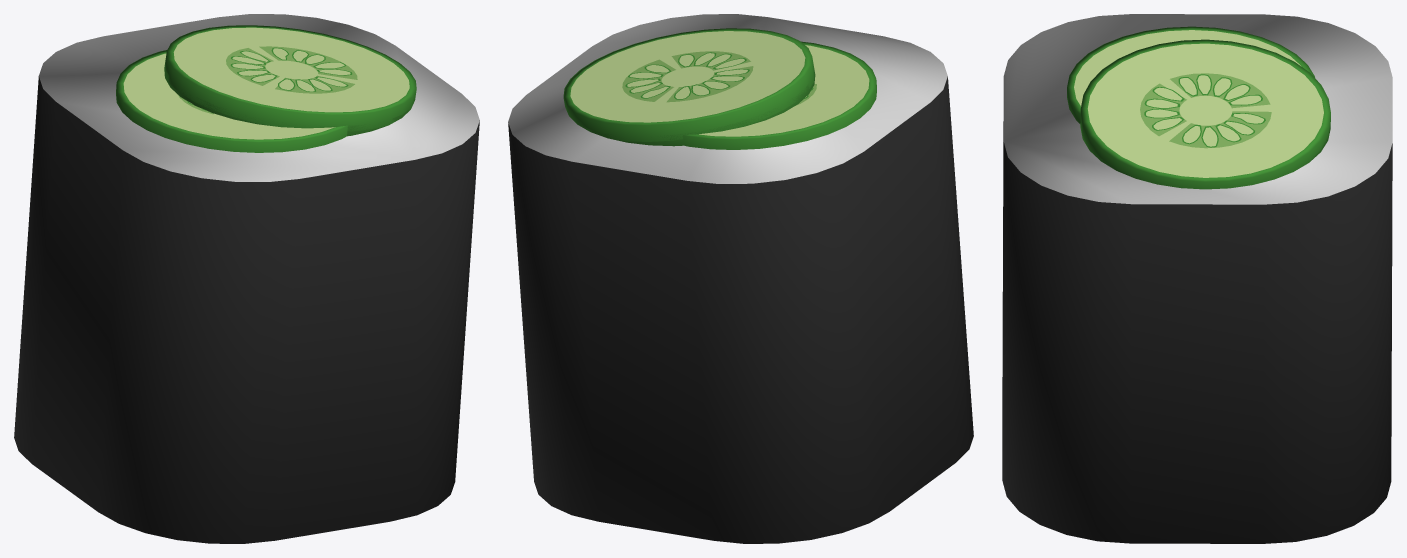
The model's file is Sushi_03.fbx.
3 renders of one model, left to right at view 1: azimuth 30°, elevation 25°; view 2: azimuth 150°, elevation 25°; view 3: azimuth 270°, elevation 25°, orthographic.
Visible parts, largest first — view 1: Plan.014; view 2: Plan.014; view 3: Plan.014.
Part boxes in pixels (x1,y1,x2,y2): Plan.014: (14, 14, 479, 543); Plan.014: (508, 14, 973, 543); Plan.014: (1002, 14, 1392, 543).
Bounding box in the file's own units: 180 × 191 × 169.
